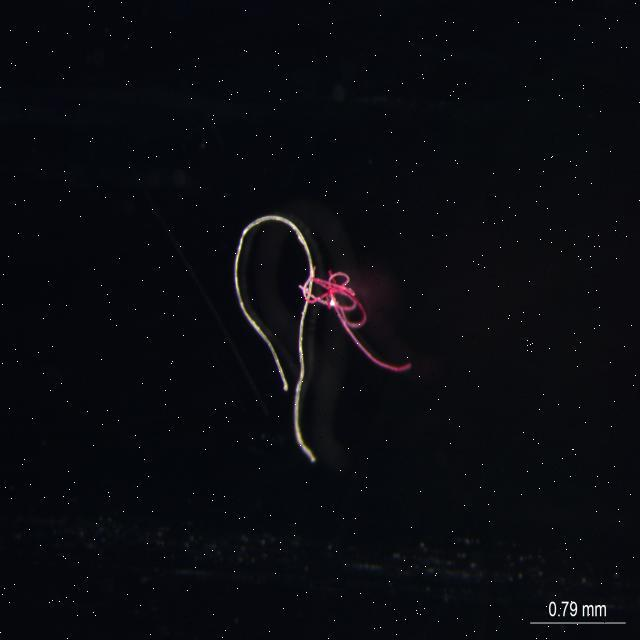Fibre: (227, 196, 418, 472)
